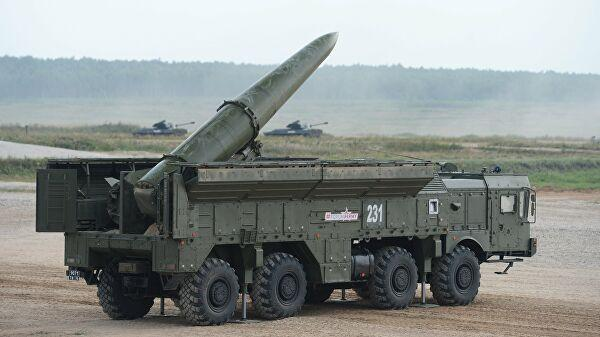rszo: (35, 148, 553, 312)
tank: (263, 118, 331, 140), (133, 118, 195, 142)
